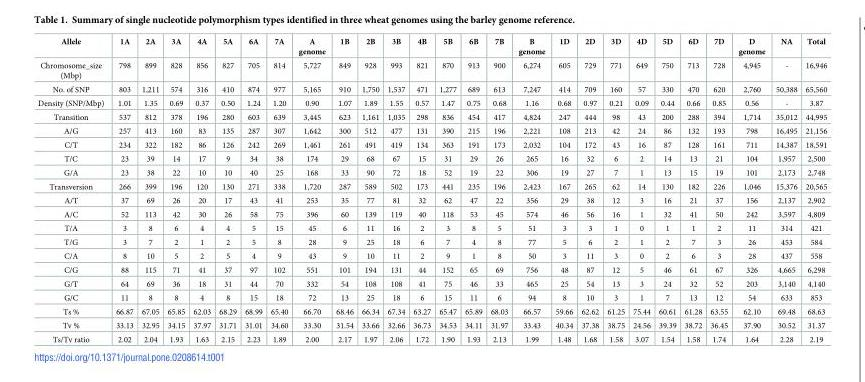table: (38, 37, 827, 343)
table column: (38, 37, 110, 343), (293, 37, 331, 343), (513, 37, 550, 343), (733, 37, 770, 343), (770, 37, 801, 343), (110, 37, 137, 343), (266, 37, 293, 343), (486, 37, 513, 343), (550, 37, 577, 343), (706, 37, 733, 343), (137, 37, 163, 343), (163, 37, 189, 343), (189, 37, 215, 343), (215, 37, 241, 343), (331, 37, 357, 343), (357, 37, 383, 343), (383, 37, 409, 343), (409, 37, 435, 343), (435, 37, 461, 343), (577, 37, 603, 343), (603, 37, 629, 343), (654, 37, 680, 343), (680, 37, 706, 343), (801, 37, 827, 343), (241, 37, 266, 343), (461, 37, 486, 343), (629, 37, 654, 343)
table column header: (38, 37, 827, 58)
table row: (38, 58, 827, 82), (38, 37, 827, 58), (38, 82, 827, 96), (38, 109, 827, 123), (38, 123, 827, 137), (38, 137, 827, 151), (38, 151, 827, 165), (38, 165, 827, 179), (38, 179, 827, 193), (38, 193, 827, 207), (38, 207, 827, 221), (38, 234, 827, 248), (38, 248, 827, 262), (38, 262, 827, 276), (38, 276, 827, 290), (38, 290, 827, 304), (38, 304, 827, 318), (38, 318, 827, 332), (38, 96, 827, 109), (38, 221, 827, 234), (38, 332, 827, 343)
